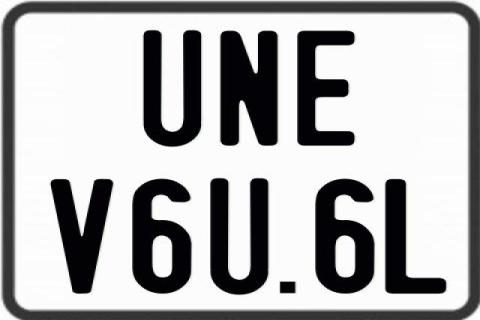0: (313, 178, 377, 298), (131, 178, 192, 294)
E: (296, 31, 355, 147)
L: (384, 177, 447, 292)
N: (218, 28, 281, 146)
U: (143, 30, 202, 148), (208, 177, 266, 297)
V: (51, 177, 119, 297)
